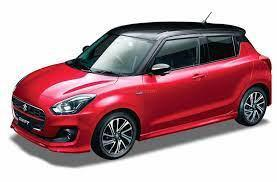Hatchback: (10, 20, 274, 161)
